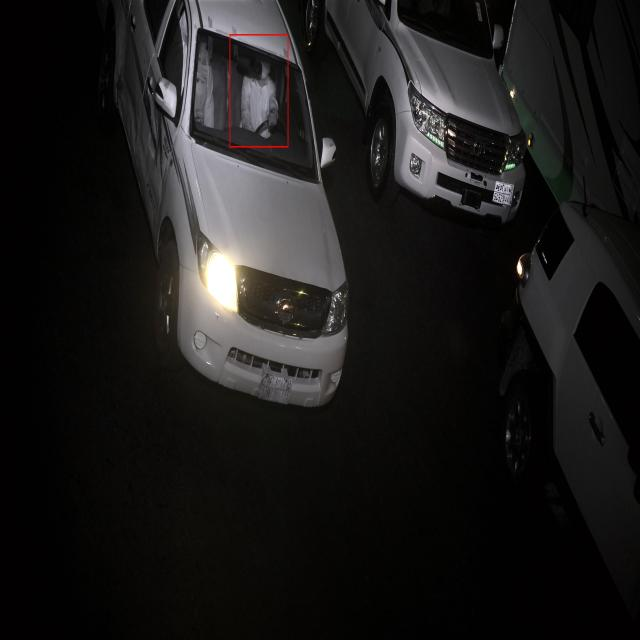windshield: (186, 18, 322, 188)
